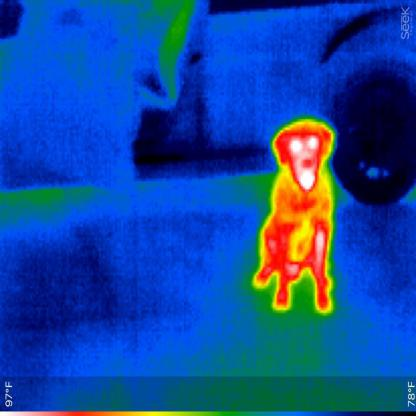dog: (251, 112, 340, 319)
